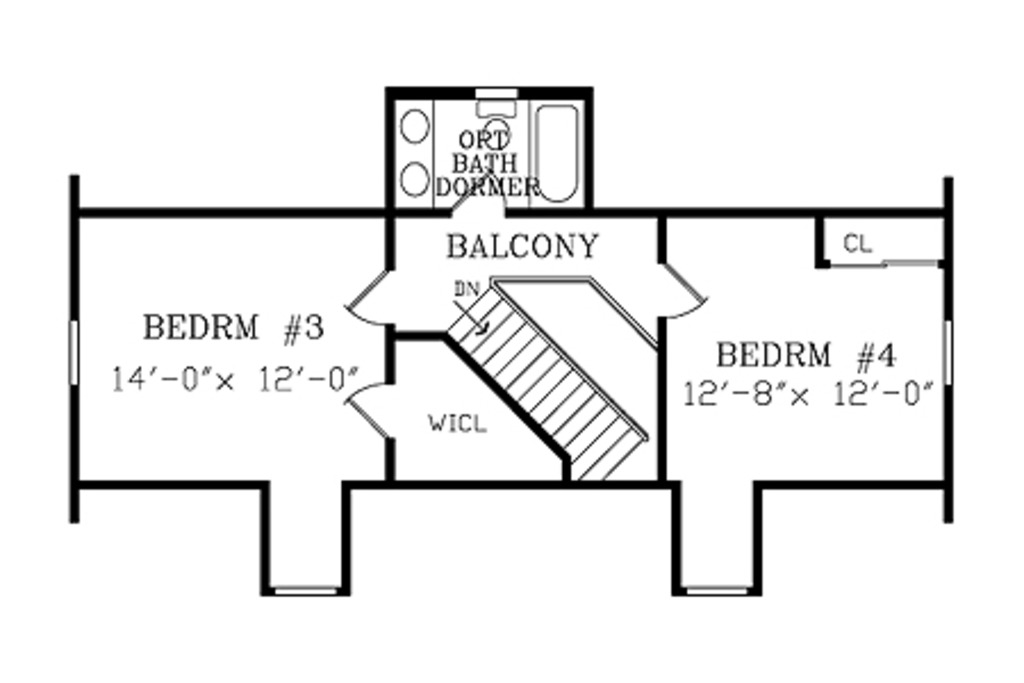door: (339, 380, 403, 441), (337, 272, 403, 327), (453, 166, 510, 223), (657, 264, 706, 317)
large_sink: (473, 83, 521, 152)
small_sink: (396, 96, 436, 206)
stairs: (428, 281, 645, 488)
tub: (523, 100, 588, 209)
window: (64, 319, 89, 388), (680, 580, 750, 597), (940, 317, 955, 388), (276, 579, 335, 596)
